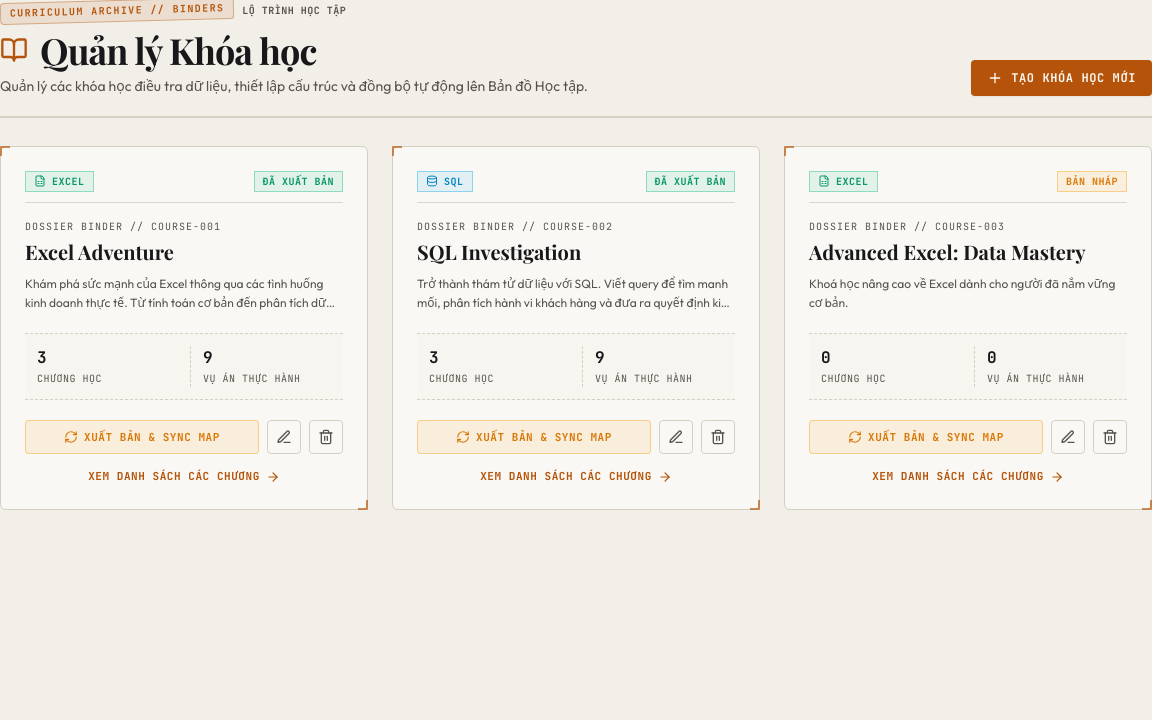
Test case: AdminCoursesPage Component Tests › mở modal tạo khóa học mới
The width and height of the screenshot is (1152, 720).
Click the button "Tạo Khóa Học Mới" at (1062, 78), box [971,60,1151,96]
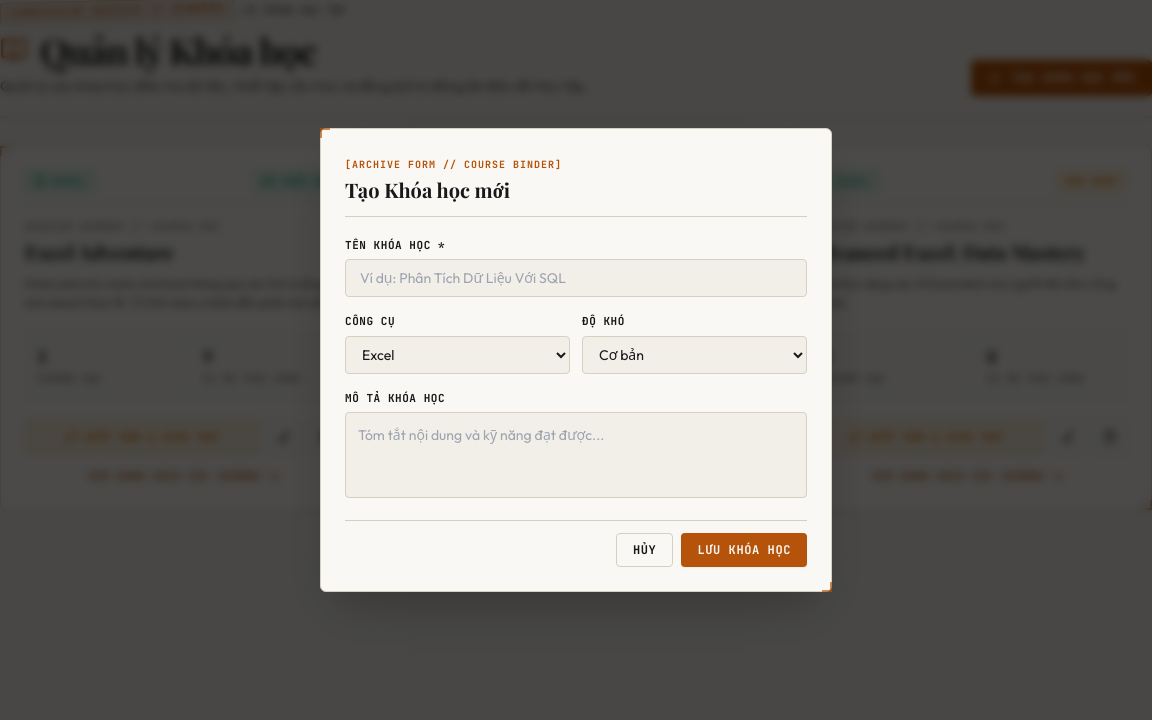
Now the heading "Tạo Khóa học mới" is shown, box [345,176,510,203]
Now the field with placeholder "Ví dụ: Phân Tích Dữ Liệu Với SQL" is shown, box [345,259,807,297]
